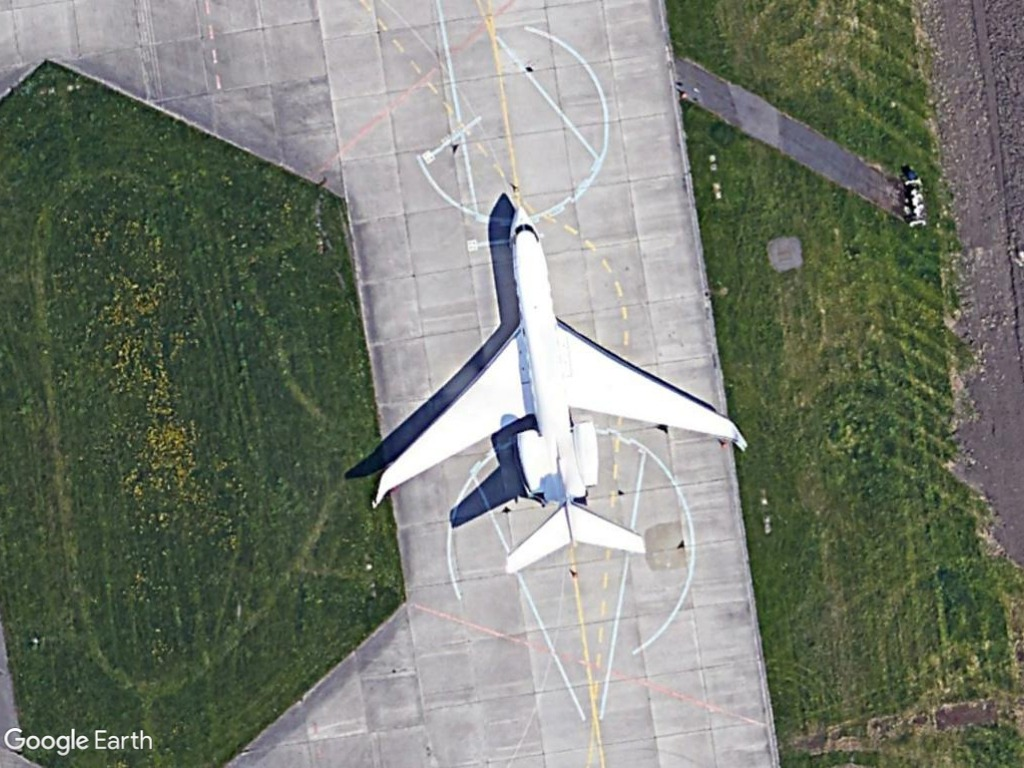propeller: (360, 200, 754, 580)
